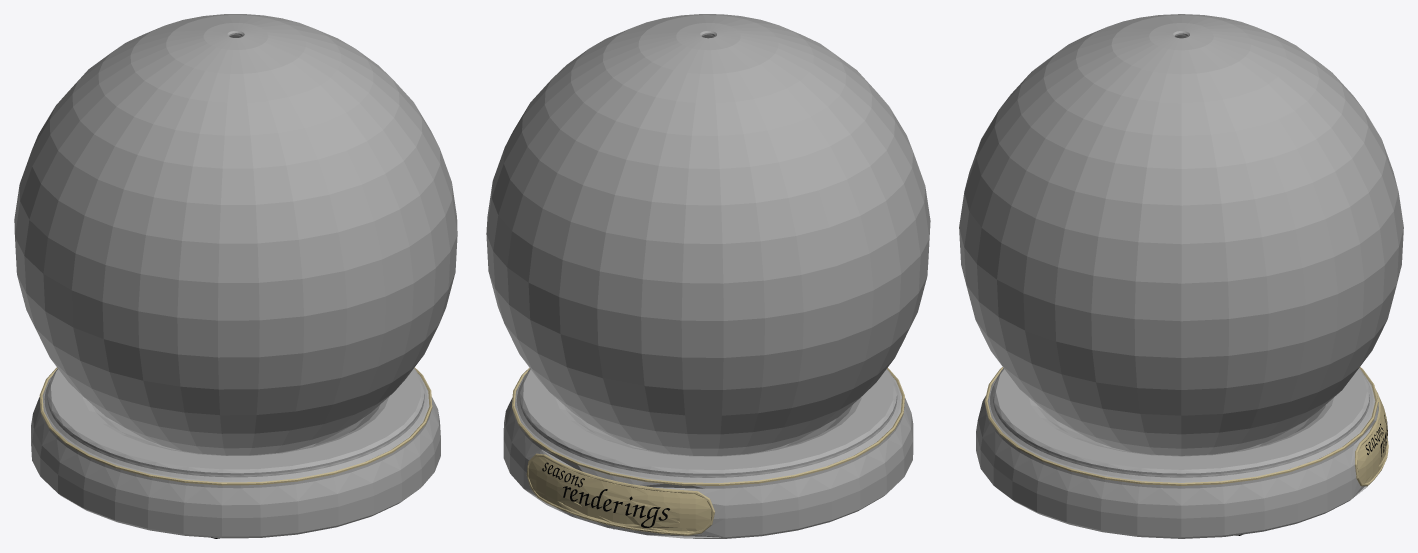
File: ball.fbx
The picture shows the model from 3 angles, left to right: view 1: azimuth 30°, elevation 25°; view 2: azimuth 150°, elevation 25°; view 3: azimuth 270°, elevation 25°; orthographic projection.
Parts seen in each view (by area): view 1: Obj_000056, Obj_000057, Obj_000003; view 2: Obj_000056, Obj_000057, Obj_000004, Obj_000003; view 3: Obj_000056, Obj_000057, Obj_000003, Obj_000004.
Boxes of the visible parts, x1,y1,x2,y2 form: Obj_000056: [14, 14, 457, 455]; Obj_000057: [31, 368, 440, 538]; Obj_000003: [39, 367, 432, 485]; Obj_000056: [486, 14, 930, 455]; Obj_000057: [503, 368, 913, 538]; Obj_000004: [526, 453, 714, 535]; Obj_000003: [512, 367, 904, 485]; Obj_000056: [959, 14, 1403, 455]; Obj_000057: [976, 368, 1378, 538]; Obj_000003: [984, 367, 1378, 485]; Obj_000004: [1355, 389, 1388, 486].
Bounding box in the file's own units: 130 × 137 × 130.
